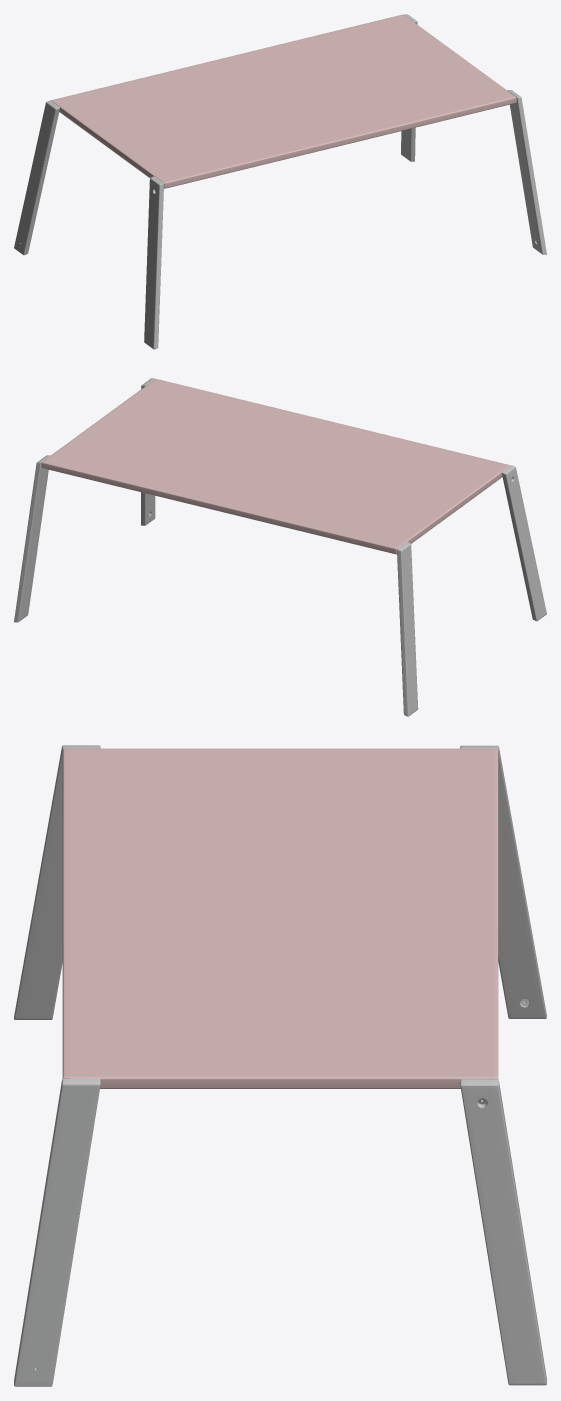
The model's file is modern_desk2.glb.
3 views of the same model, one above another, from view 1: azimuth 30°, elevation 25°; view 2: azimuth 150°, elevation 25°; view 3: azimuth 270°, elevation 25° (orthographic). The views are drawn at different scales.
Parts seen in each view (by area): view 1: table_mesh_n3d, leg_001_mesh_n3d, leg_001_mesh_n3d2, leg_001_mesh_n3d3, leg_001_mesh_n3d4; view 2: table_mesh_n3d, leg_001_mesh_n3d2, leg_001_mesh_n3d, leg_001_mesh_n3d4, leg_001_mesh_n3d3; view 3: table_mesh_n3d, leg_001_mesh_n3d3, leg_001_mesh_n3d4, leg_001_mesh_n3d, leg_001_mesh_n3d2.
Part boxes in pixels (x1=…): table_mesh_n3d: x1=51, y1=14, x2=516, y2=188; leg_001_mesh_n3d: x1=144, y1=176, x2=163, y2=349; leg_001_mesh_n3d2: x1=14, y1=100, x2=59, y2=255; leg_001_mesh_n3d3: x1=507, y1=90, x2=546, y2=254; leg_001_mesh_n3d4: x1=401, y1=14, x2=417, y2=161; table_mesh_n3d: x1=41, y1=379, x2=510, y2=554; leg_001_mesh_n3d2: x1=397, y1=542, x2=418, y2=716; leg_001_mesh_n3d: x1=501, y1=465, x2=546, y2=621; leg_001_mesh_n3d4: x1=14, y1=455, x2=50, y2=622; leg_001_mesh_n3d3: x1=141, y1=378, x2=155, y2=525; table_mesh_n3d: x1=62, y1=748, x2=498, y2=1088; leg_001_mesh_n3d3: x1=14, y1=1078, x2=100, y2=1386; leg_001_mesh_n3d4: x1=460, y1=1079, x2=546, y2=1385; leg_001_mesh_n3d: x1=14, y1=745, x2=100, y2=1019; leg_001_mesh_n3d2: x1=460, y1=745, x2=546, y2=1018.
Bounding box in the file's own units: 1.86 × 0.6932 × 1.14.
